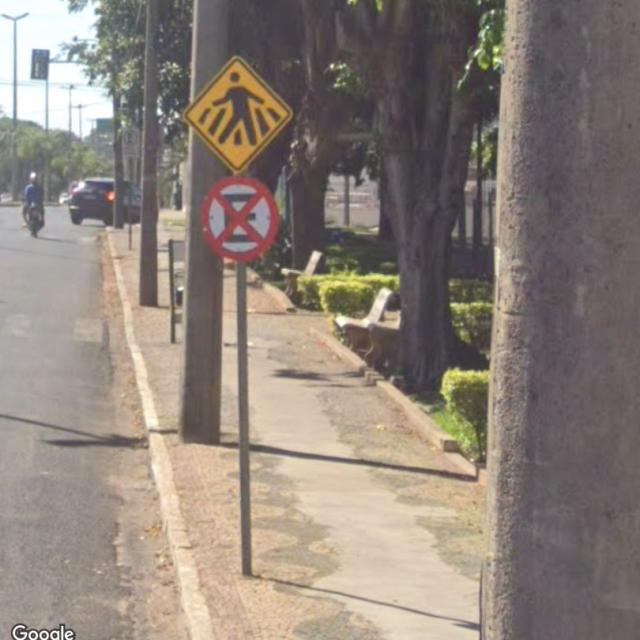no parking: (184, 176, 284, 280)
pedestrian crossing: (175, 44, 299, 174)
